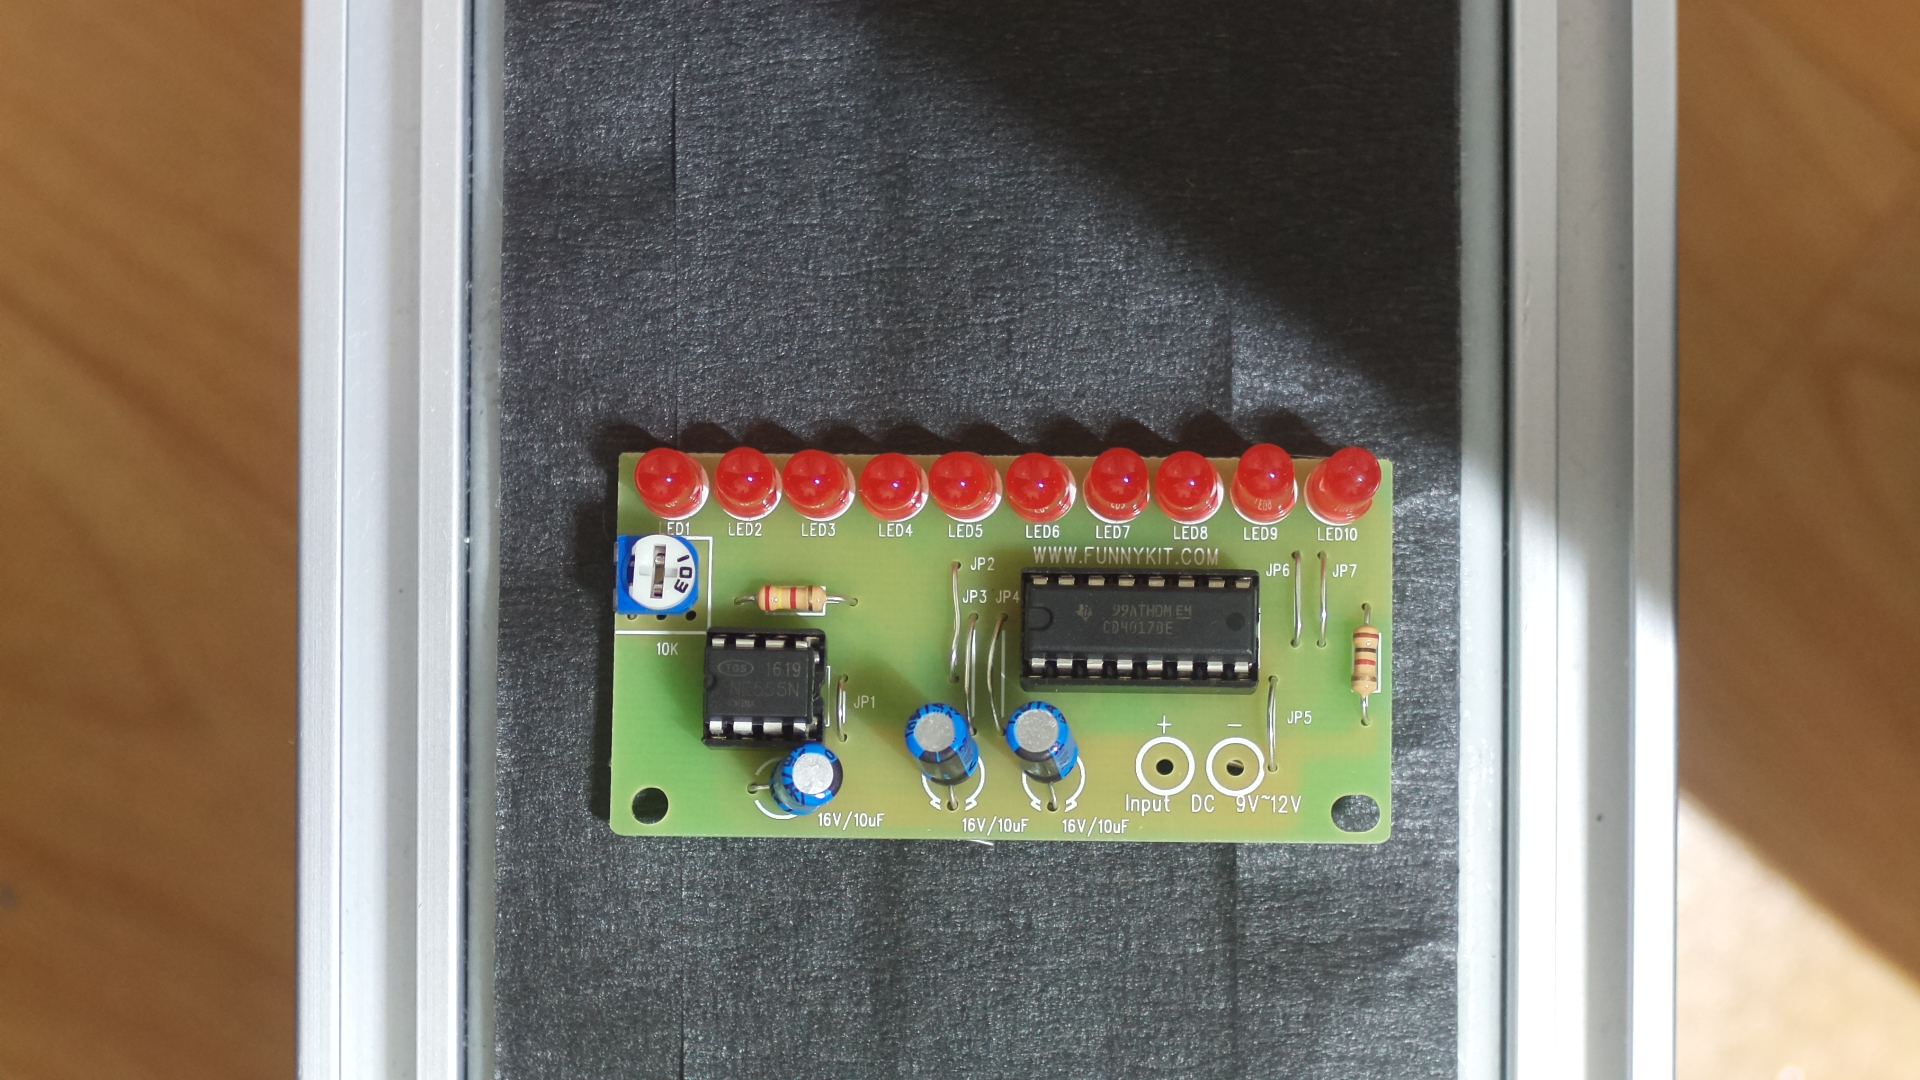B_Normal: (601, 434, 1415, 872)
